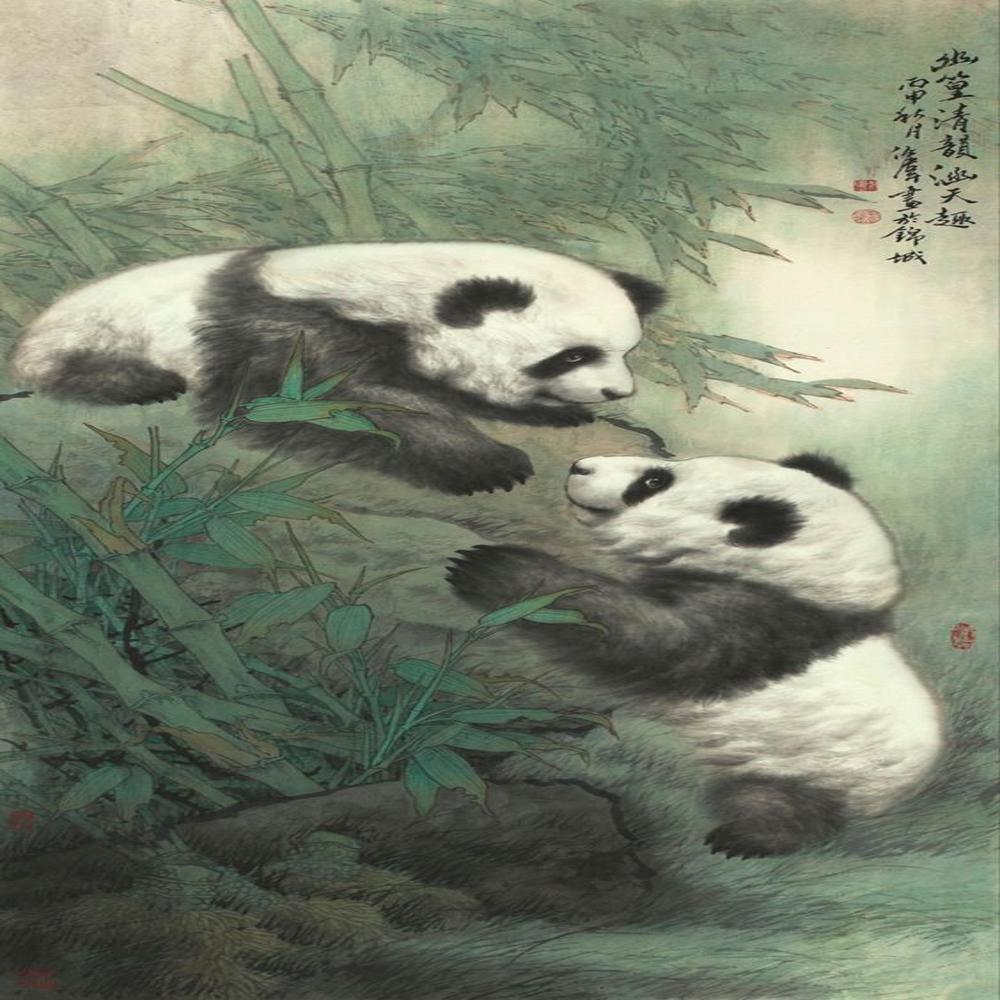panda: (8, 232, 671, 506)
